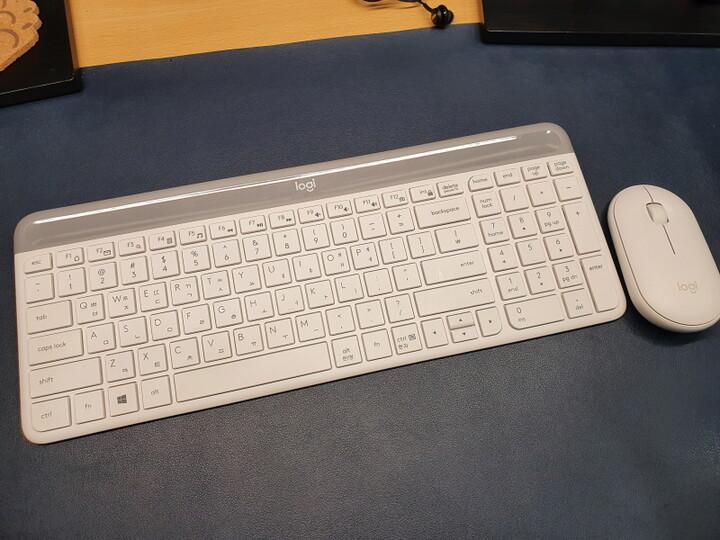keyboard: (12, 121, 628, 445)
mouse: (606, 183, 719, 334)
